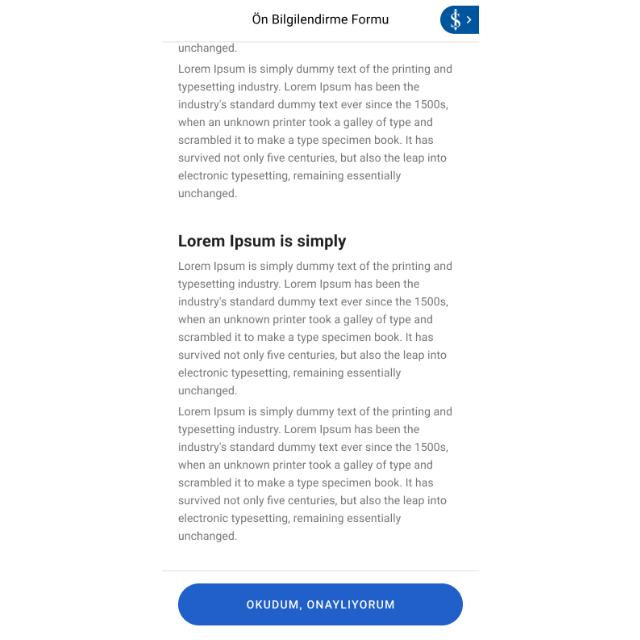QLabel: (175, 44, 459, 200), (170, 404, 454, 542), (172, 260, 454, 398), (174, 232, 350, 252), (248, 10, 390, 28), (242, 598, 398, 612)
VAppBar: (162, 1, 478, 41)
VBtn: (178, 583, 462, 627)
VFooter: (162, 570, 478, 640)
VImg: (442, 6, 478, 34)
